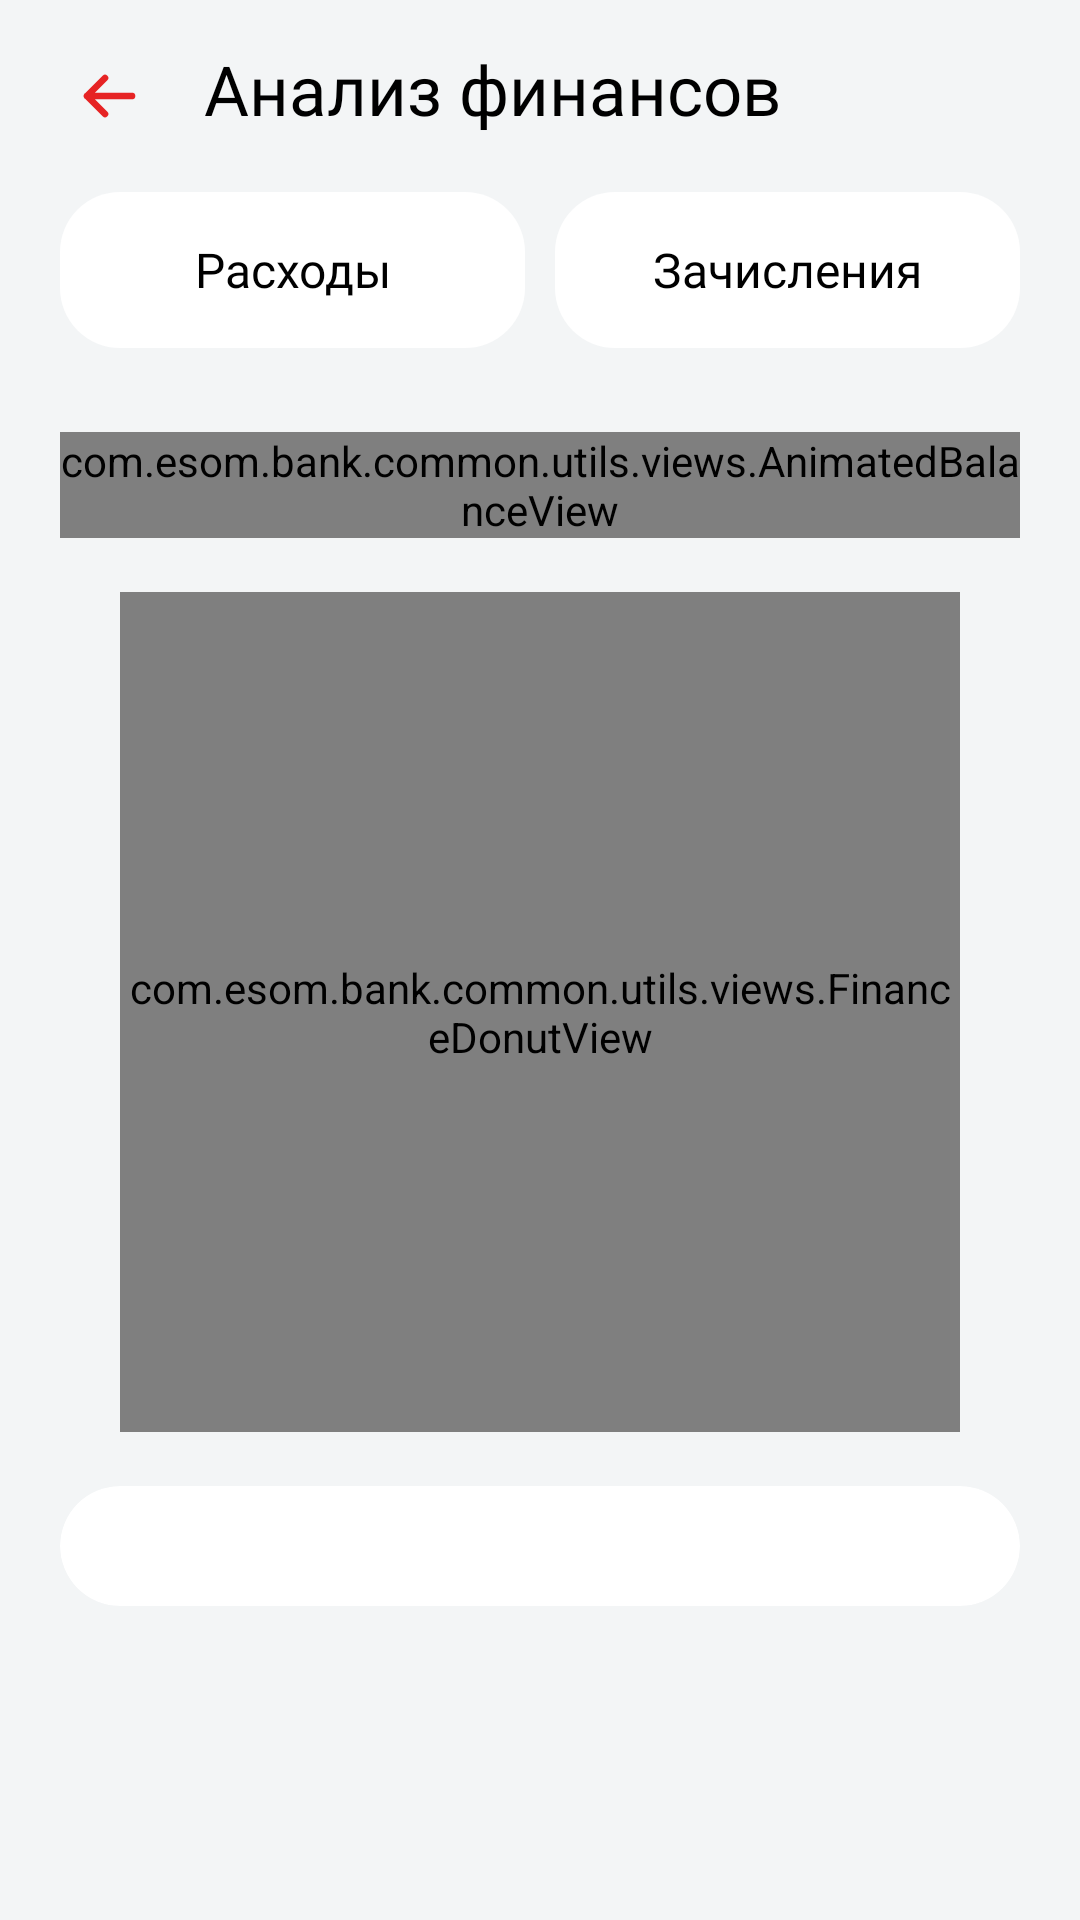

Point at icon controls on the screen. Image size 1080*1920, points as [x,y].
arrow left: [109,96]
